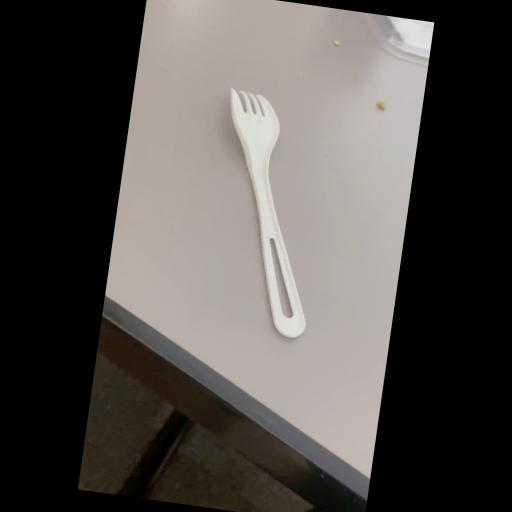utensil: (180, 74, 343, 344)
